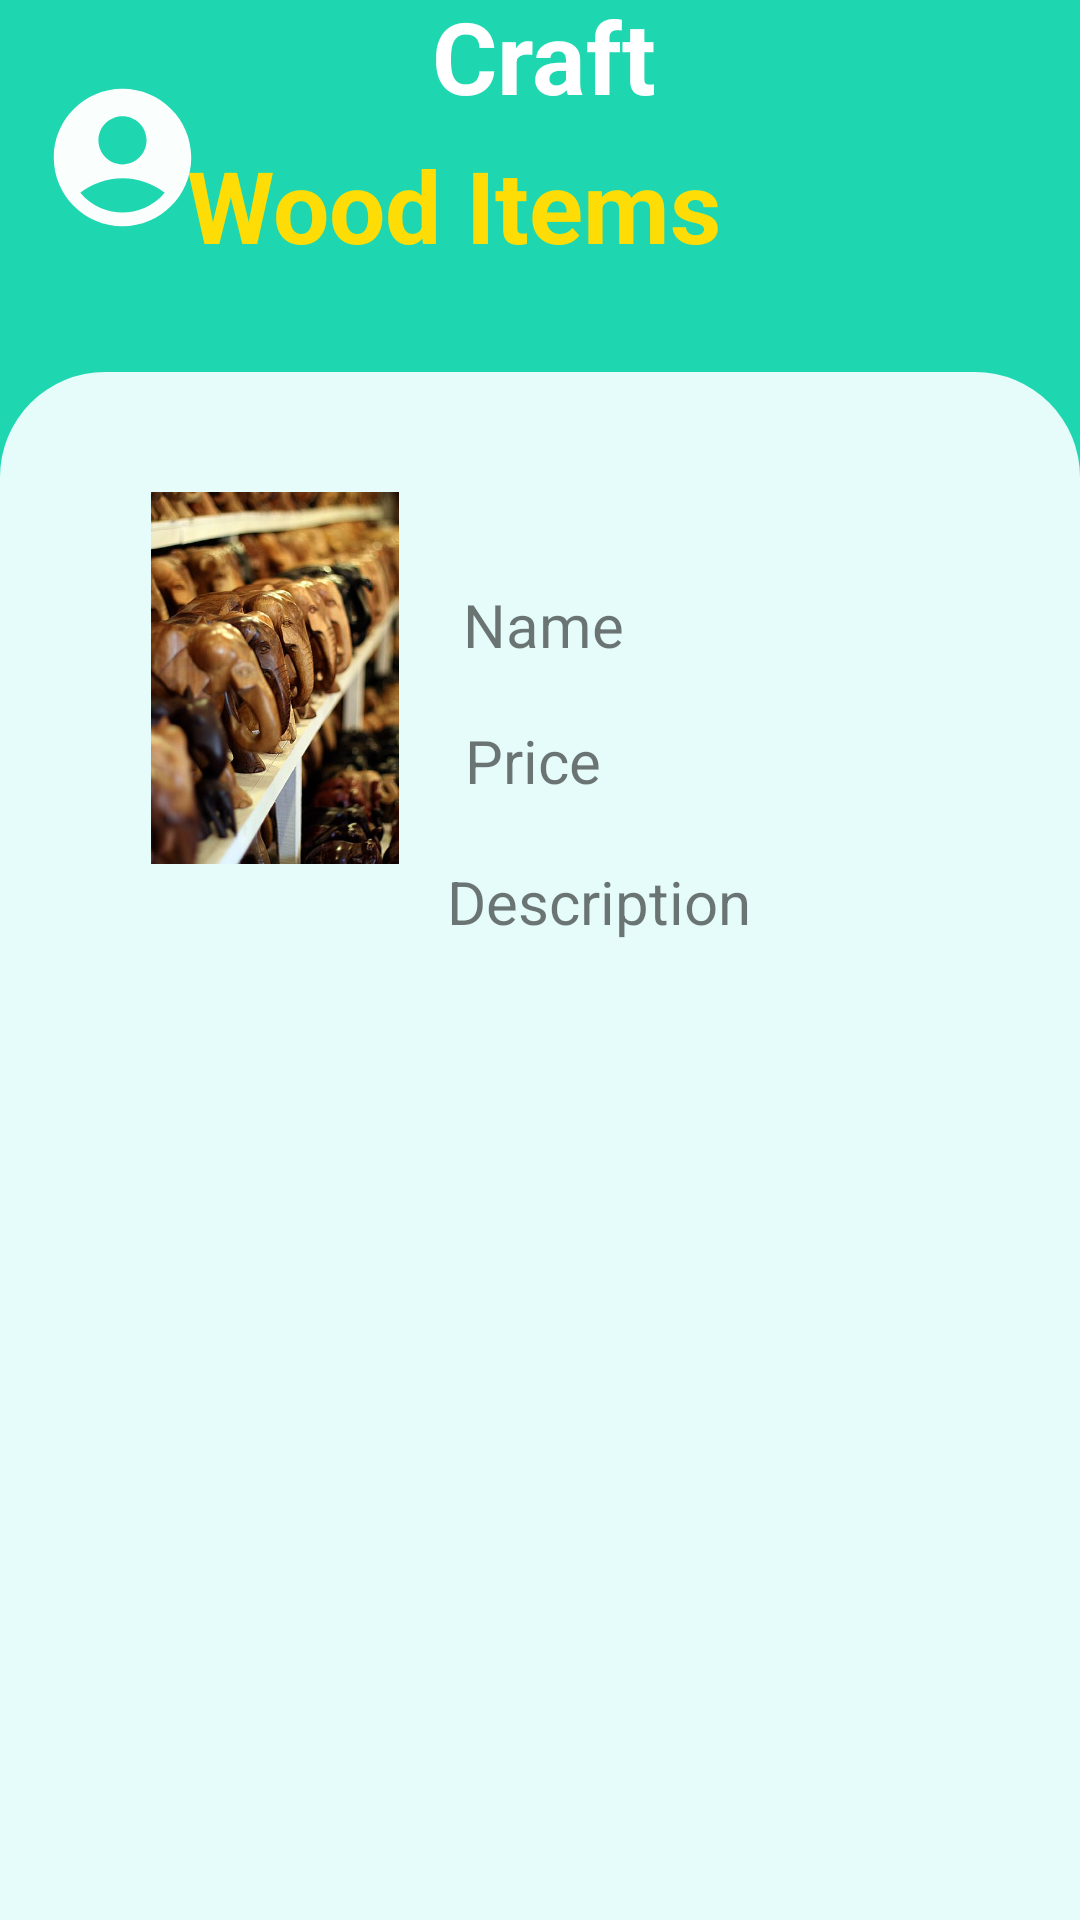

Named icons in this screenshot (1080*1920) and their bounding boxes, (x1, y1, x2, y2):
user profile: (53, 88, 205, 244)
